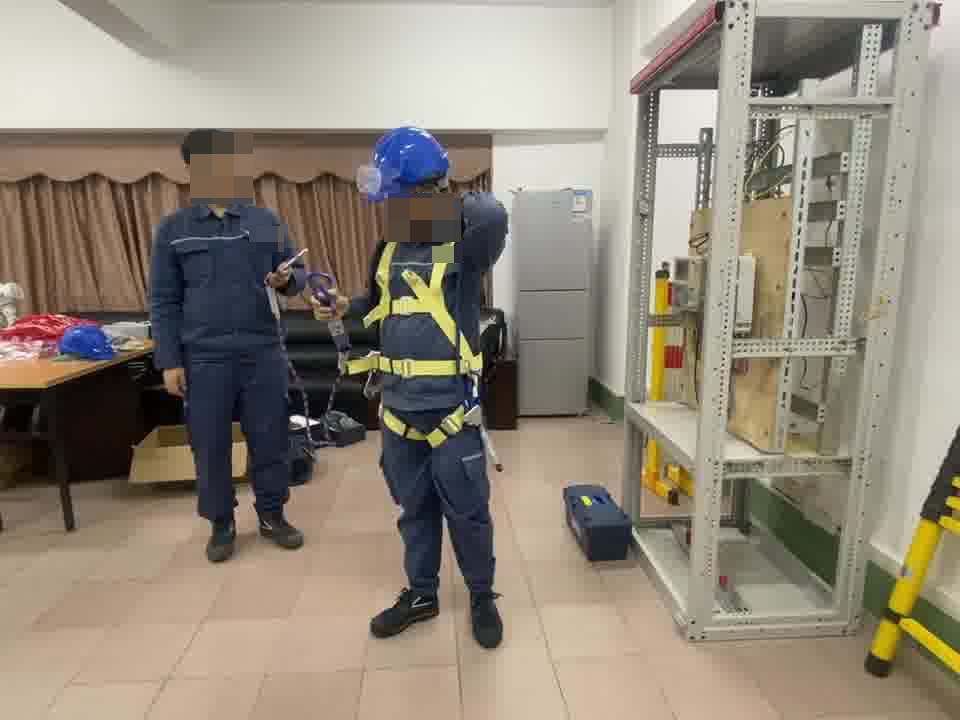downsuit: (379, 380, 497, 588), (183, 365, 297, 525)
halt: (355, 127, 456, 237)
hand: (312, 288, 353, 328), (159, 365, 190, 398), (263, 258, 292, 292)
inear: (418, 181, 447, 213)
person: (350, 124, 512, 653), (149, 128, 310, 567)
safebelt: (345, 226, 507, 474)
unhalt: (180, 129, 249, 206)
upsuit: (352, 192, 509, 374), (152, 204, 301, 360)
